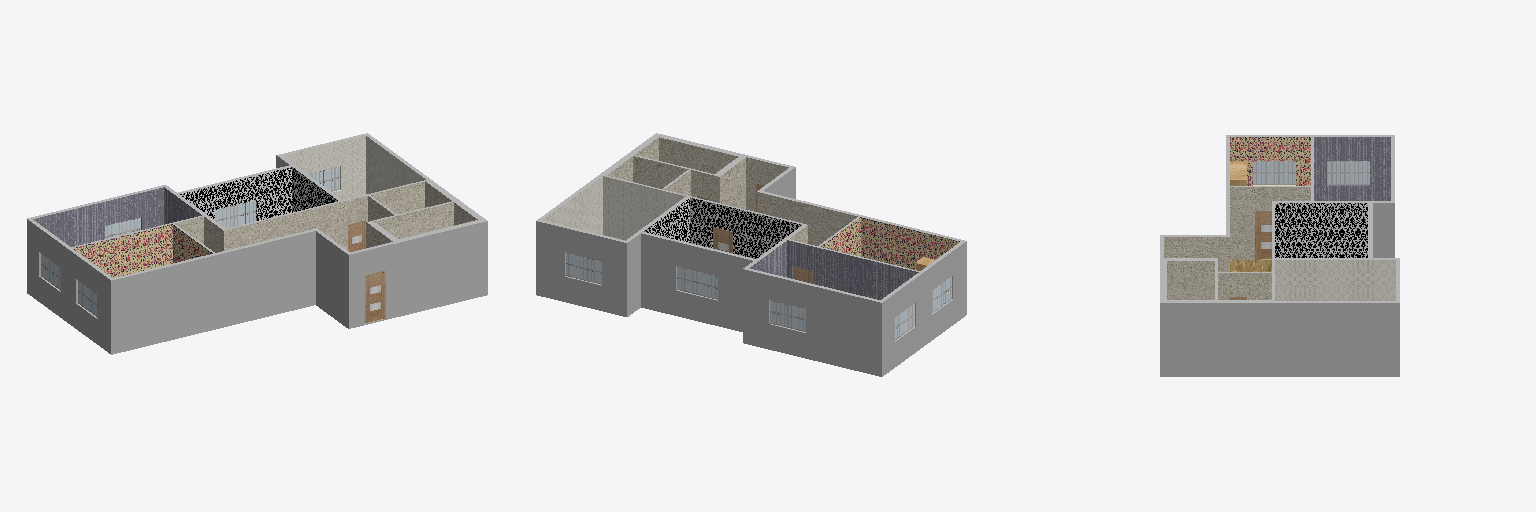
The picture shows the model from 3 angles: view 1: azimuth 30°, elevation 25°; view 2: azimuth 150°, elevation 25°; view 3: azimuth 270°, elevation 25°; orthographic projection.
Parts seen in each view (by area): view 1: Куб; view 2: Куб; view 3: Куб.
Boxes of the visible parts, box(x1,y1,x2,y2) form: Куб: box(27, 133, 487, 354); Куб: box(536, 133, 966, 376); Куб: box(1160, 135, 1399, 376).
Size of the model in its own units: 14.77 by 3.05 by 8.95.
11 materials, 10 textured.